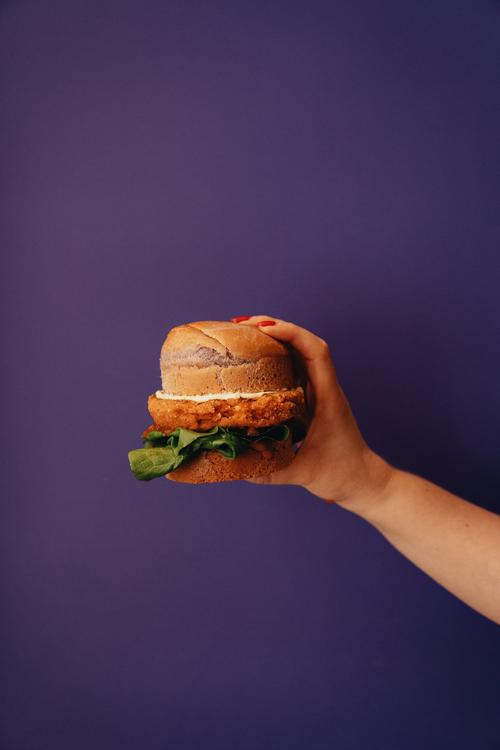no-phone: (127, 307, 402, 514)
